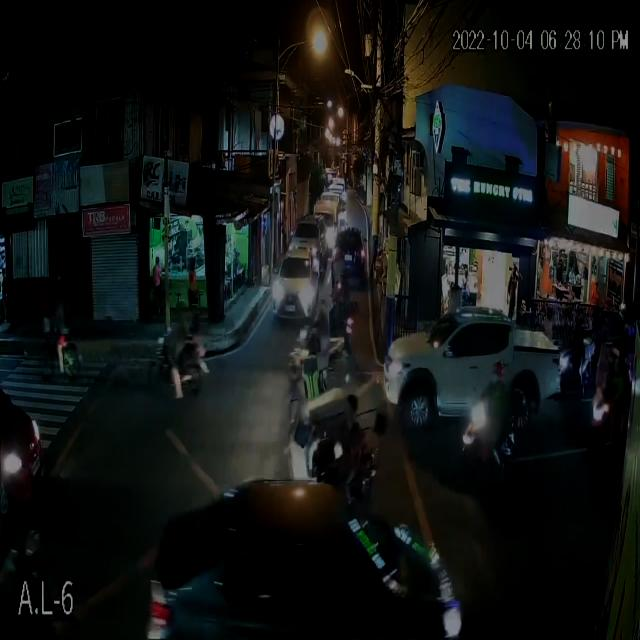Full-Faced: (489, 358, 507, 386)
Not-Wearing-Helmet: (342, 392, 358, 422)
